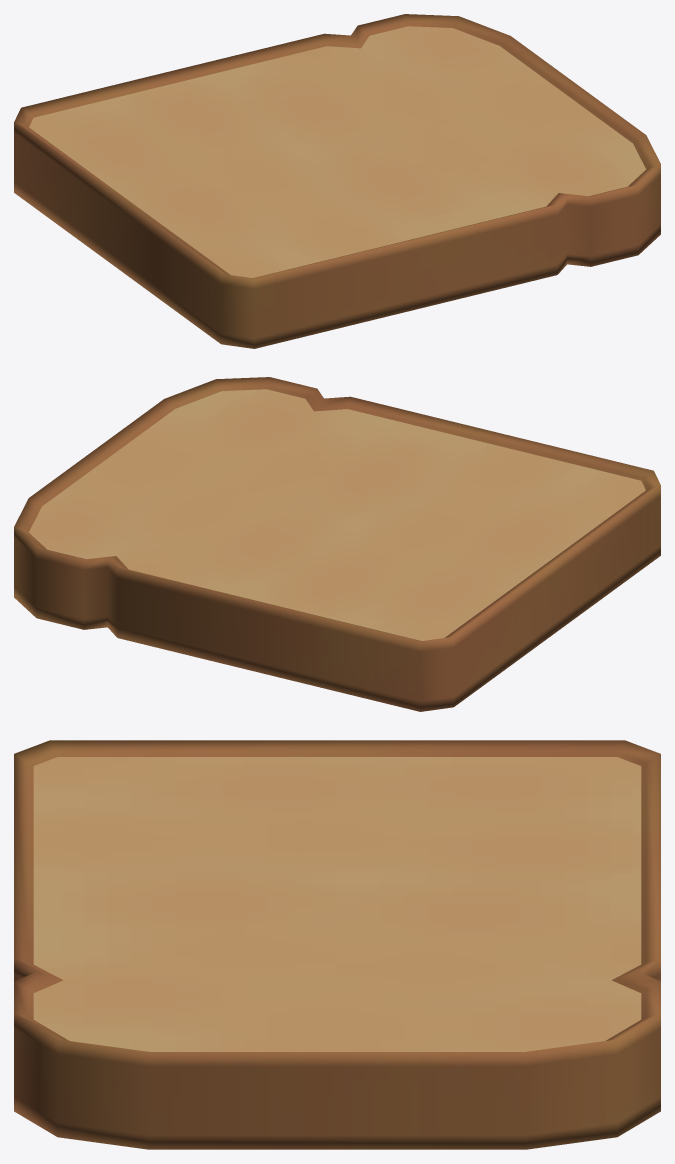
The model's file is bread-slice.glb.
3 renders of one model, top to bottom at view 1: azimuth 30°, elevation 25°; view 2: azimuth 150°, elevation 25°; view 3: azimuth 270°, elevation 25°, orthographic. The views are drawn at different scales.
Parts seen in each view (by area): view 1: Cube; view 2: Cube; view 3: Cube.
Part boxes in pixels (bbox=[...]): Cube: bbox=[14, 14, 660, 348]; Cube: bbox=[14, 377, 660, 711]; Cube: bbox=[14, 740, 660, 1149].
Bounding box in the file's own units: 0.1369 × 0.02 × 0.12.
Materials: 1 (1 with a texture image).
